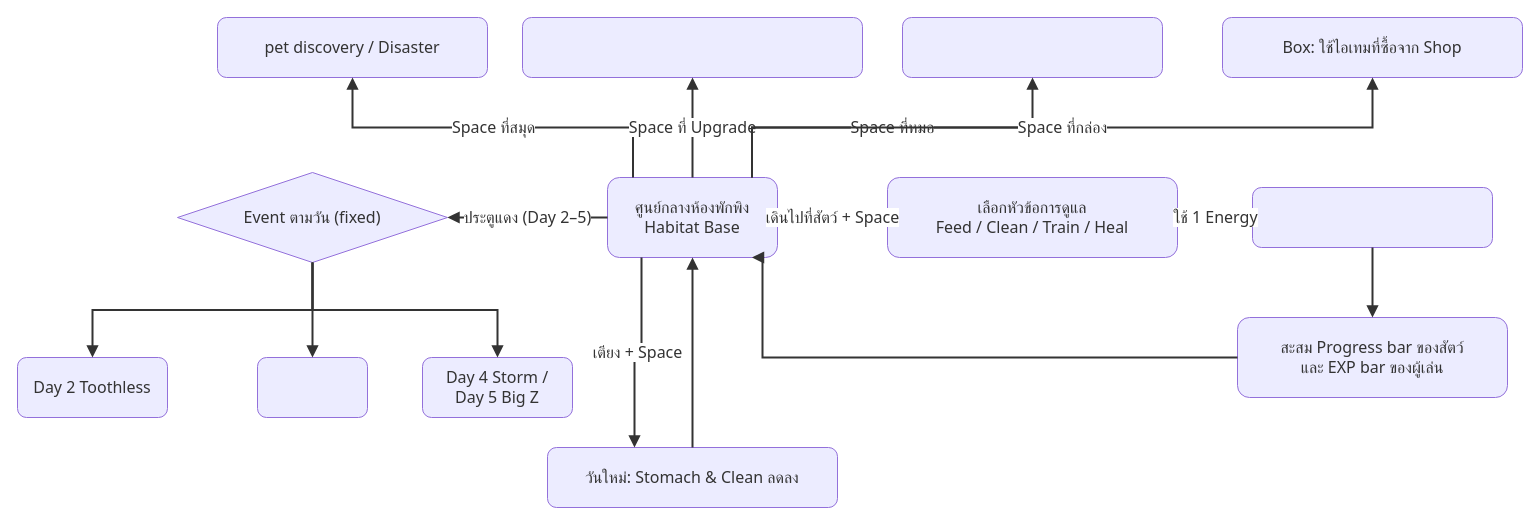
Some shapes in this 1540 by 525 pixel diagram are drawn without their labels. The shapes that lost their labels are listed below. From the top down, each one's box as (x1, y1, x2, y2) in pixels, then its label:
(522, 16, 862, 78): Upgrade: QTE / Progress / Energy
(902, 16, 1162, 78): Doctor: ชุบชีวิตสัตว์ HP = 0
(1252, 186, 1492, 248): เล่น QTE วงล้อ 10 จังหวะ
(256, 356, 368, 418): Day 3 พ่อค้า → Shop
